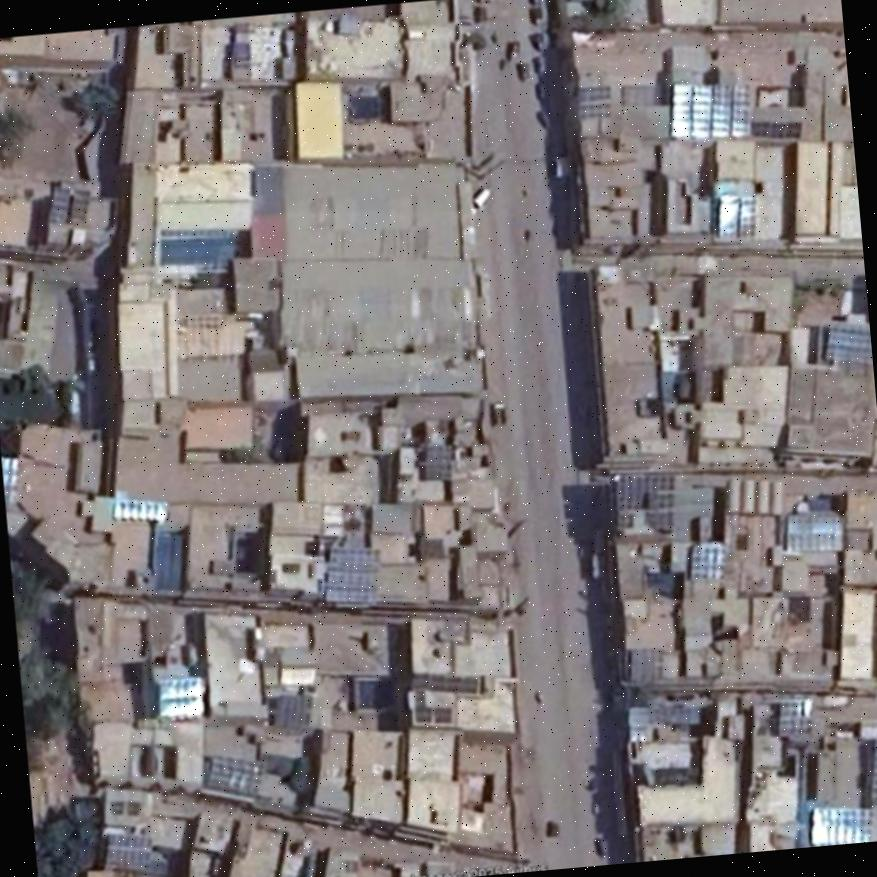Solarpanel: (668, 82, 750, 136), (614, 474, 674, 529), (323, 548, 378, 601), (808, 806, 873, 845), (824, 323, 871, 362), (105, 833, 151, 871), (715, 195, 756, 236), (157, 681, 203, 715), (407, 674, 478, 693), (110, 496, 166, 520), (776, 698, 811, 735), (690, 545, 724, 578), (415, 703, 450, 721)
